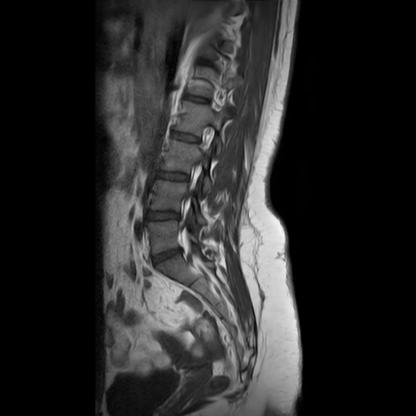Disc Bulgerotation: (145, 209, 182, 227)
Disc Protrusionrotation: (148, 249, 185, 266)
